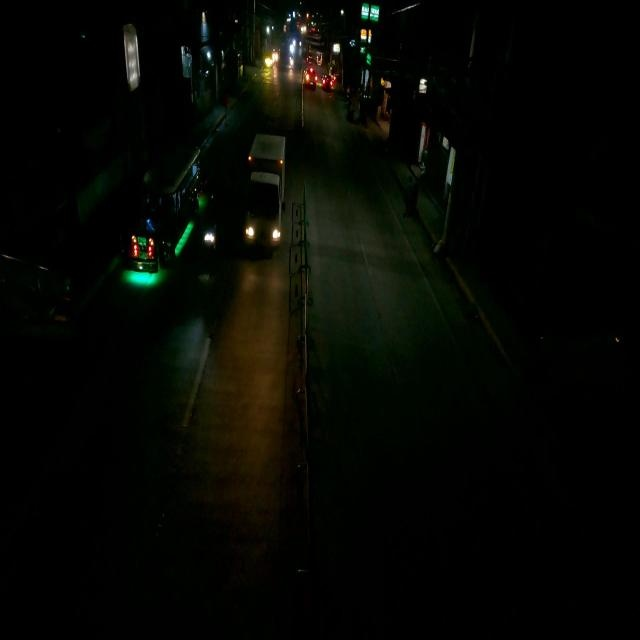Truck: (239, 132, 286, 254)
